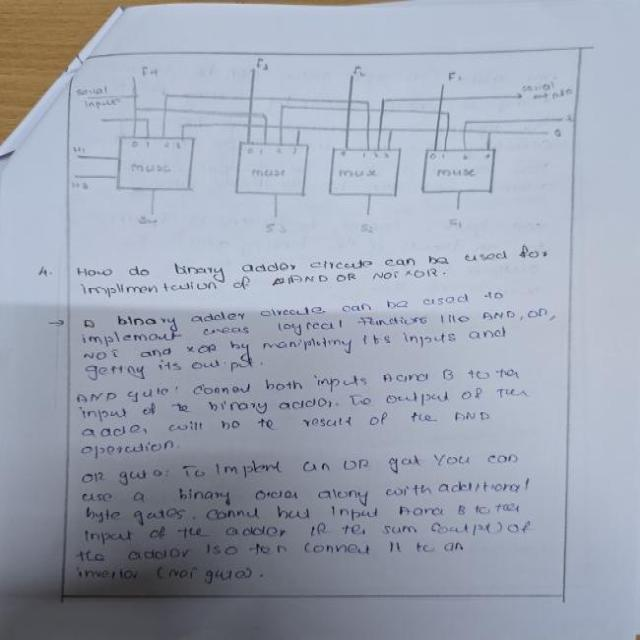Figure Detection - v3 Dataset Version2: (60, 53, 580, 252)
